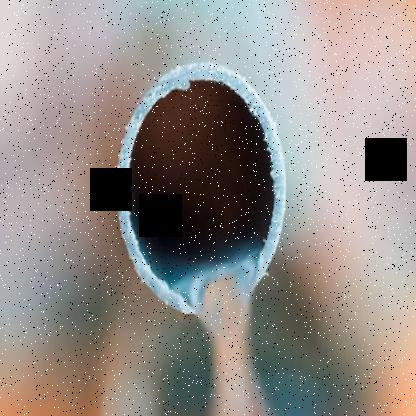pipe: (118, 61, 286, 316)
